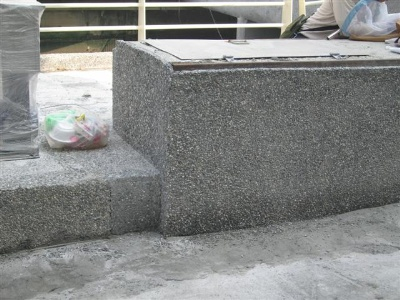plastic_bag: (43, 107, 111, 151)
